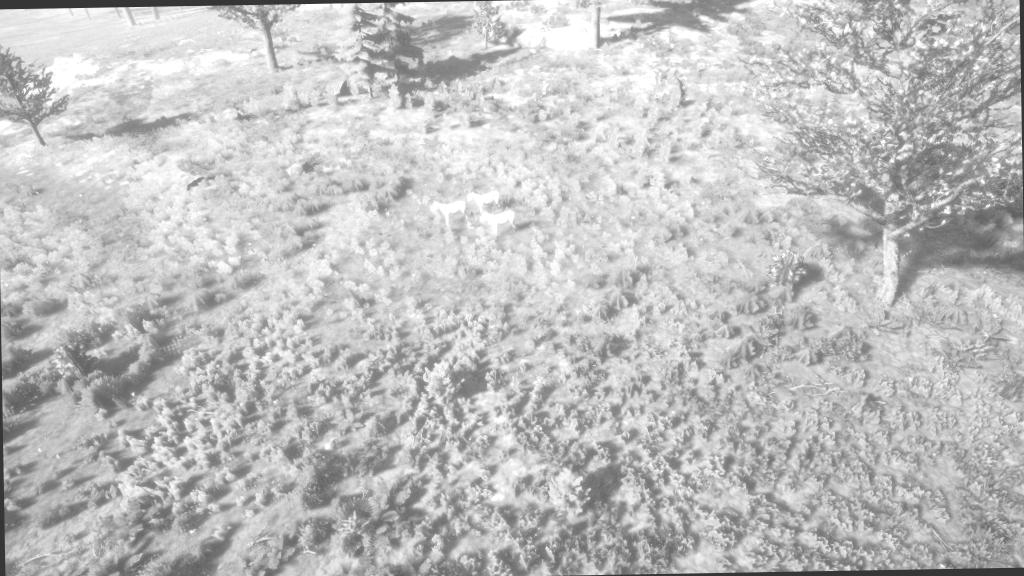zebra: (427, 198, 470, 232), (466, 186, 505, 216), (477, 208, 521, 234)
